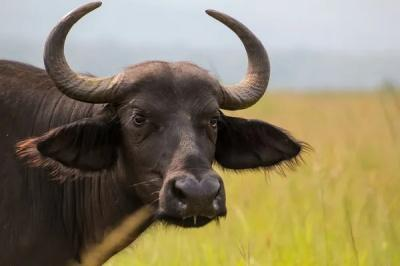buffalo: (0, 1, 301, 265)
